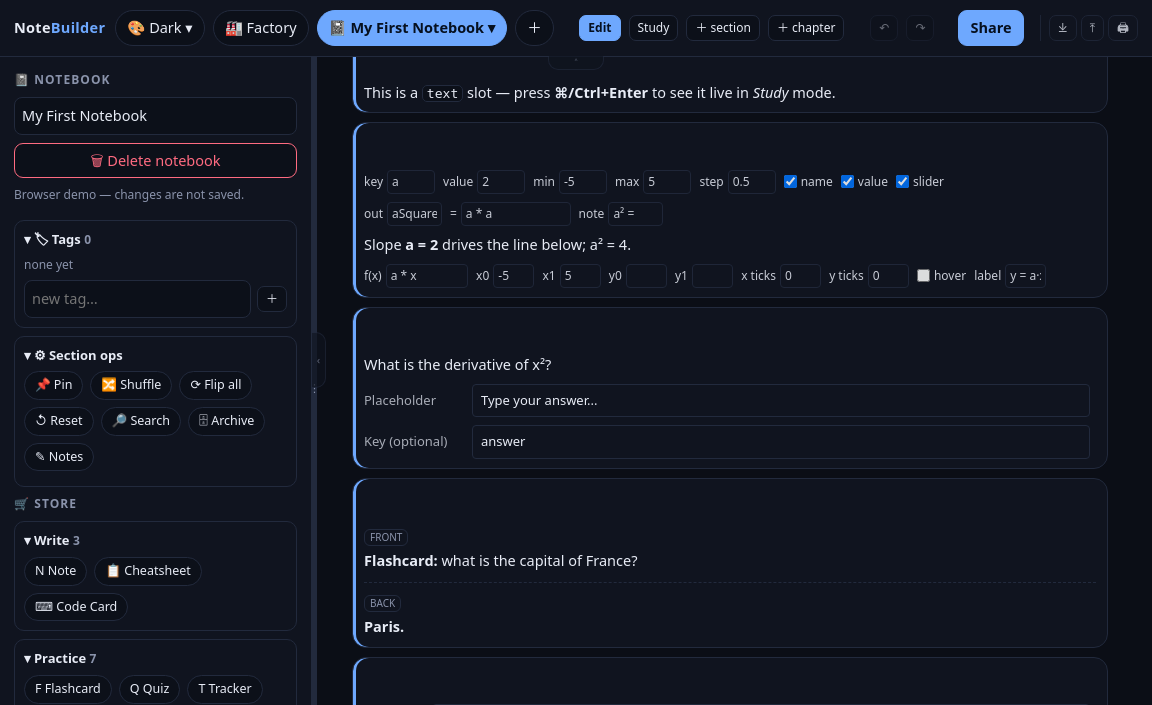
Test: card panel — two write paths, one history (C) › Remove deletes the card, clears the selection, and is one undo step
(page scrolled)
Step 1. Click the element with class "furn" that starts with "What is the derivative of x²?" → (730, 388), box [352, 307, 1108, 469]
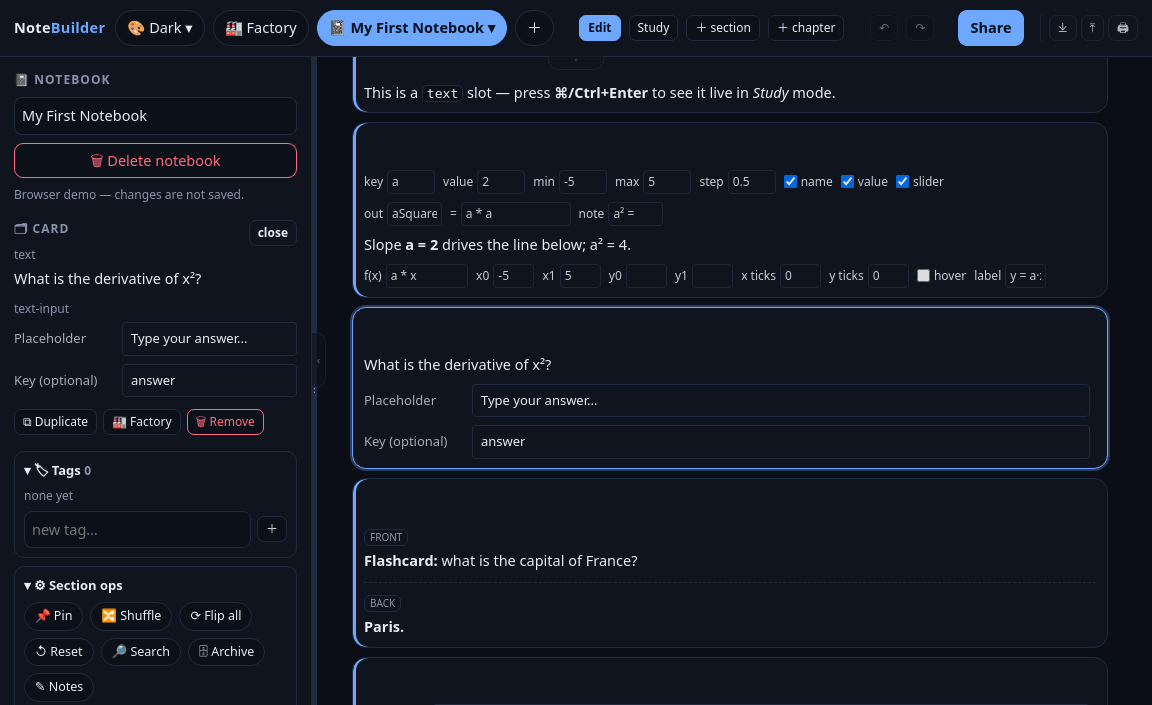
Check: the 2nd field labelled "Placeholder" is shown, box [472, 384, 1090, 417]
Check: the field labelled "Placeholder" below "text-input" is shown, box [122, 322, 297, 356]
Step 2. Click the button titled "Remove card" → (225, 422), box [186, 409, 264, 435]
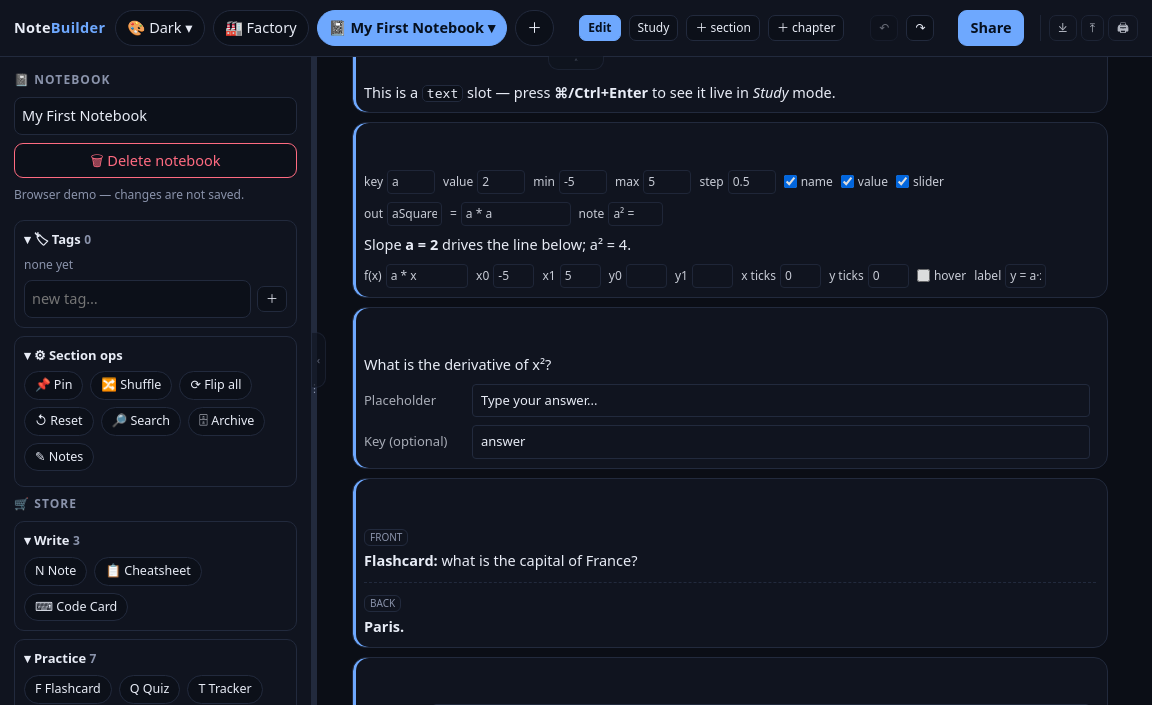
Check: the element with class "card-panel" is gone
